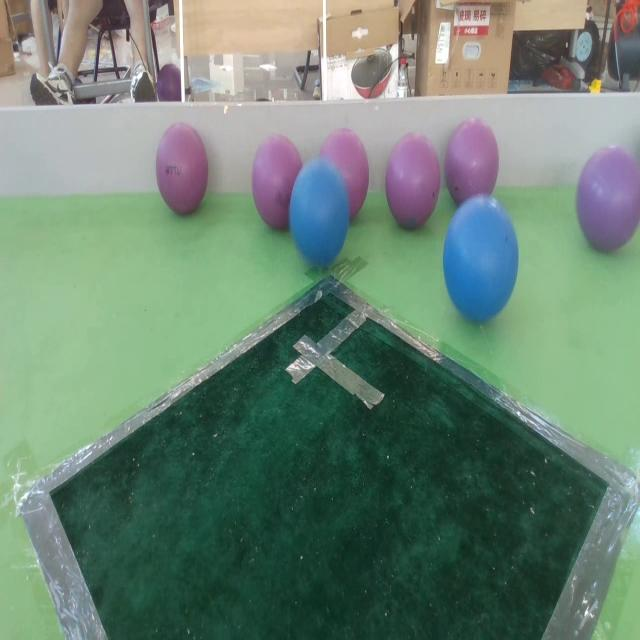blue: (441, 197, 516, 324), (289, 159, 349, 266)
invalid: (574, 146, 640, 259), (387, 129, 438, 230), (157, 119, 208, 216), (322, 126, 369, 227), (251, 134, 299, 228), (445, 125, 498, 208)
